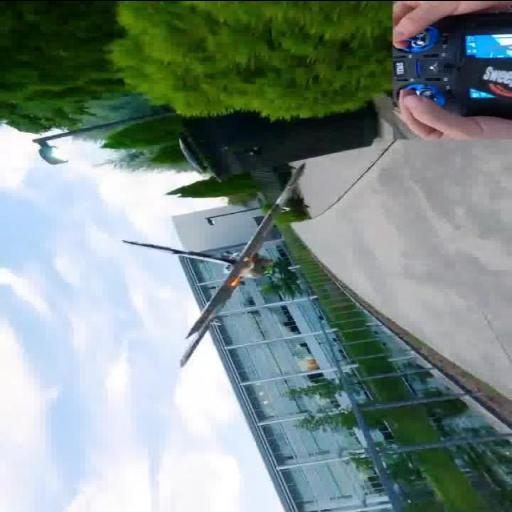uav: (117, 158, 321, 376)
